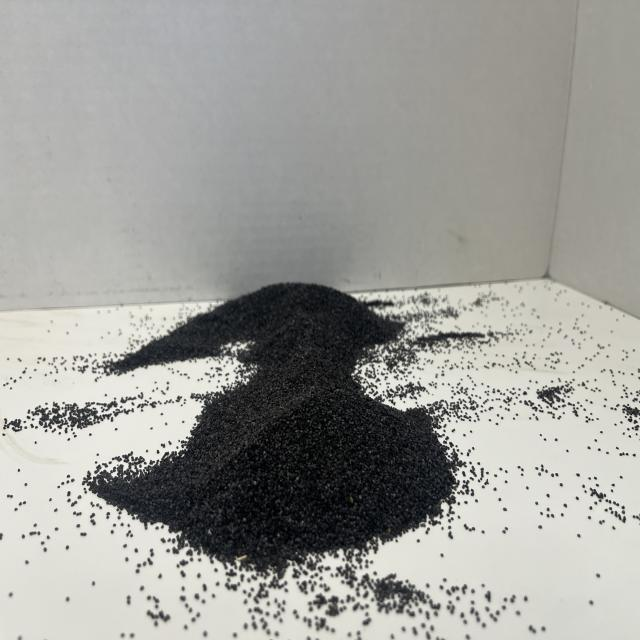Poppy Seeds: (144, 280, 467, 566)
